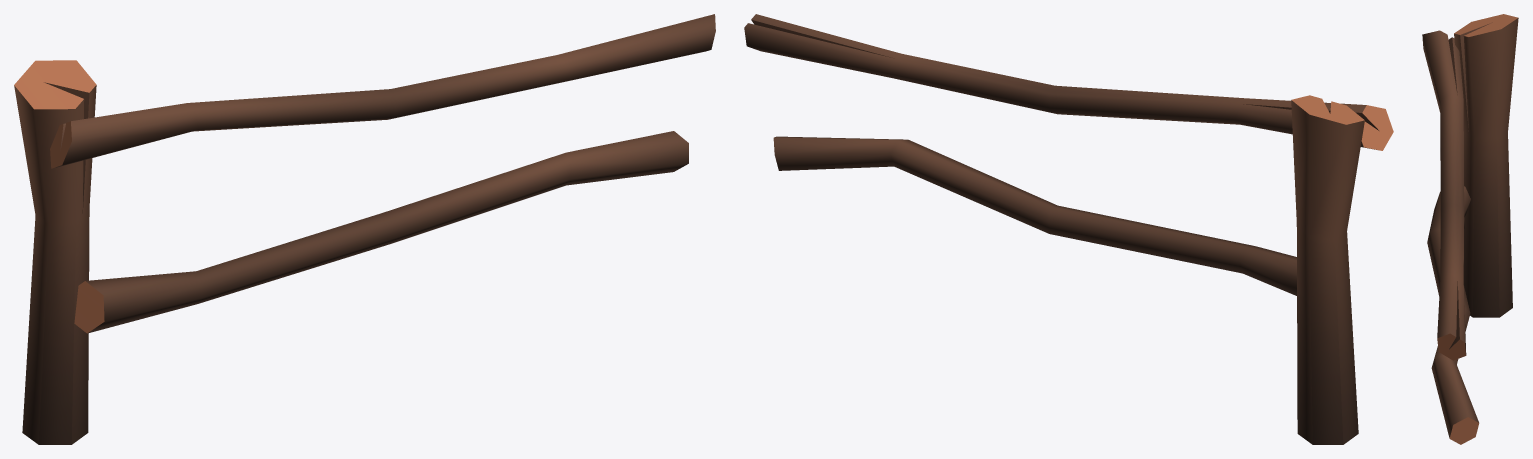
File: Fence_2A_Part_1.fbx
The picture shows the model from 3 angles, left to right: view 1: azimuth 30°, elevation 25°; view 2: azimuth 150°, elevation 25°; view 3: azimuth 270°, elevation 25°; orthographic projection. The views are drawn at different scales.
Visible parts, largest first — view 1: Fence_2A_Part_1; view 2: Fence_2A_Part_1; view 3: Fence_2A_Part_1.
Boxes of the visible parts, x1,y1,x2,y2 form: Fence_2A_Part_1: (14, 14, 715, 444); Fence_2A_Part_1: (744, 14, 1393, 444); Fence_2A_Part_1: (1422, 14, 1518, 444).
Size of the model in its own units: 218 by 111 by 33.33.
